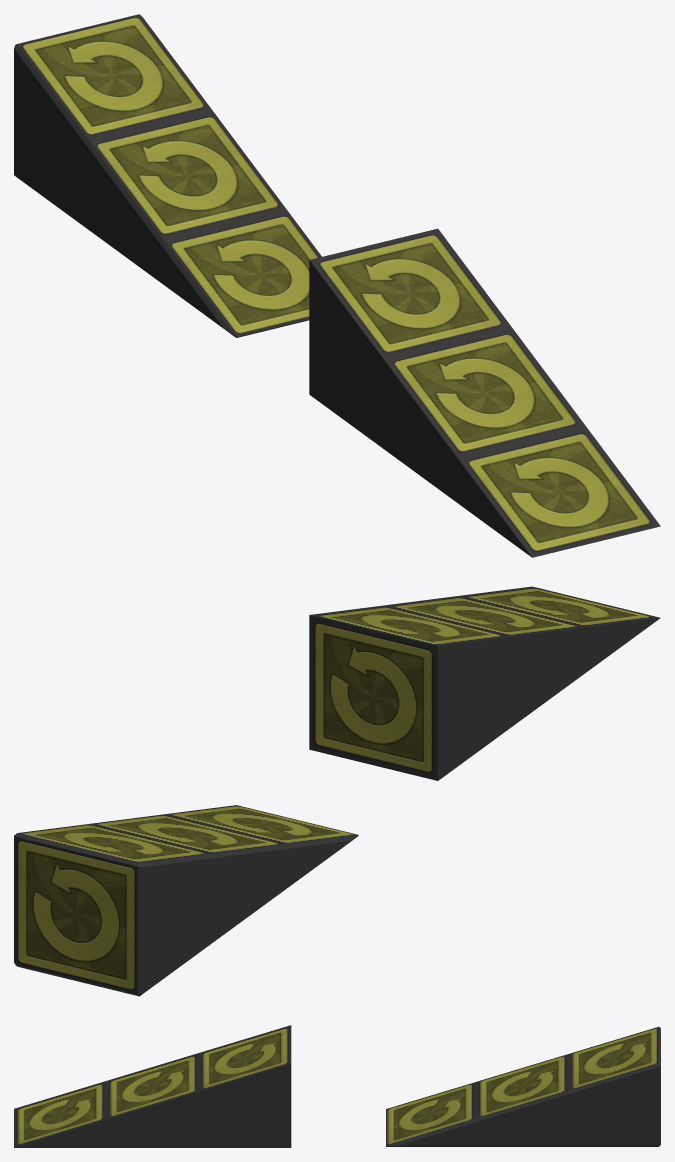
File: slope.1x3.fbx
The picture shows the model from 3 angles, top to bottom: view 1: azimuth 30°, elevation 25°; view 2: azimuth 150°, elevation 25°; view 3: azimuth 270°, elevation 25°; orthographic projection. The views are drawn at different scales.
Visible parts, largest first — view 1: MESH slope.1x3, MESH slope.1x3.c; view 2: MESH slope.1x3, MESH slope.1x3.c; view 3: MESH slope.1x3, MESH slope.1x3.c.
Boxes of the visible parts, bbox=[...] form: MESH slope.1x3: bbox=[309, 228, 660, 557]; MESH slope.1x3.c: bbox=[14, 14, 321, 337]; MESH slope.1x3: bbox=[309, 586, 660, 780]; MESH slope.1x3.c: bbox=[14, 805, 358, 996]; MESH slope.1x3: bbox=[14, 1025, 291, 1147]; MESH slope.1x3.c: bbox=[386, 1026, 660, 1146].
Size of what is drawn, in the model's own units: 100 by 100 by 700.
